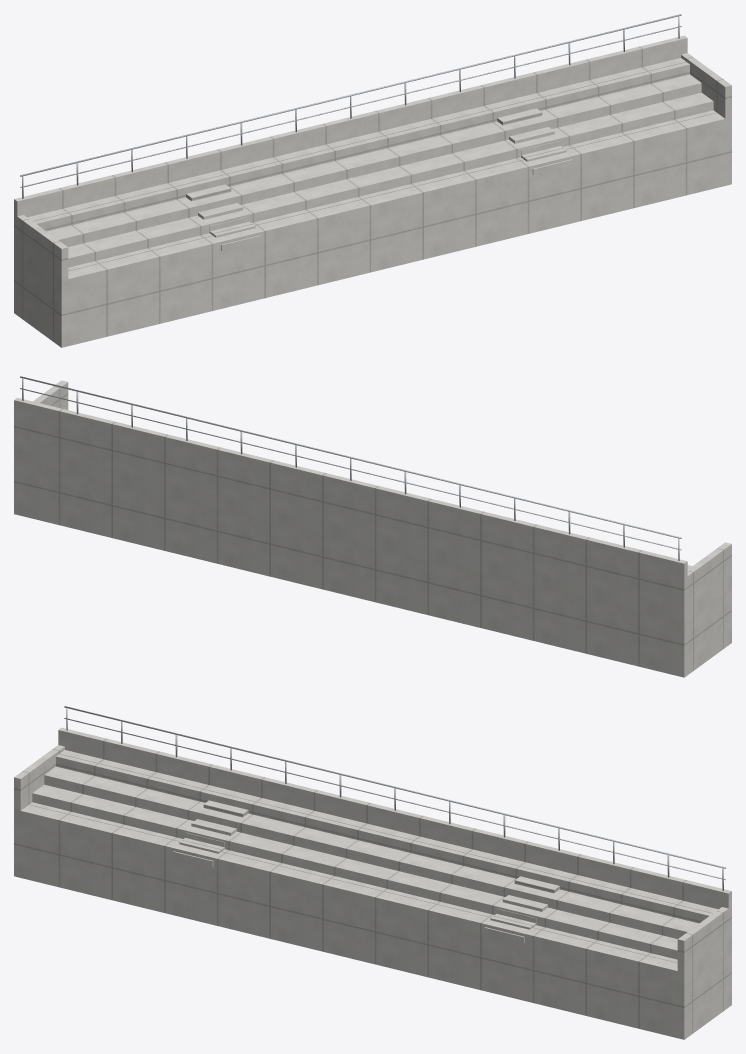
Rendered from sportplatz_terrace.glb.
3 renders of one model, top to bottom at view 1: azimuth 30°, elevation 25°; view 2: azimuth 150°, elevation 25°; view 3: azimuth 330°, elevation 25°, orthographic.
Visible parts, largest first — view 1: Terrace_concrete, Terrace_railing; view 2: Terrace_concrete, Terrace_railing; view 3: Terrace_concrete, Terrace_railing.
Boxes of the visible parts, bbox=[...] form: Terrace_concrete: bbox=[14, 35, 731, 347]; Terrace_railing: bbox=[20, 14, 681, 198]; Terrace_concrete: bbox=[14, 380, 731, 677]; Terrace_railing: bbox=[20, 376, 681, 560]; Terrace_concrete: bbox=[14, 727, 731, 1039]; Terrace_railing: bbox=[64, 706, 725, 890].
Size of the model in its own units: 28 by 5.5 by 3.49.
2 materials, 2 textured.
